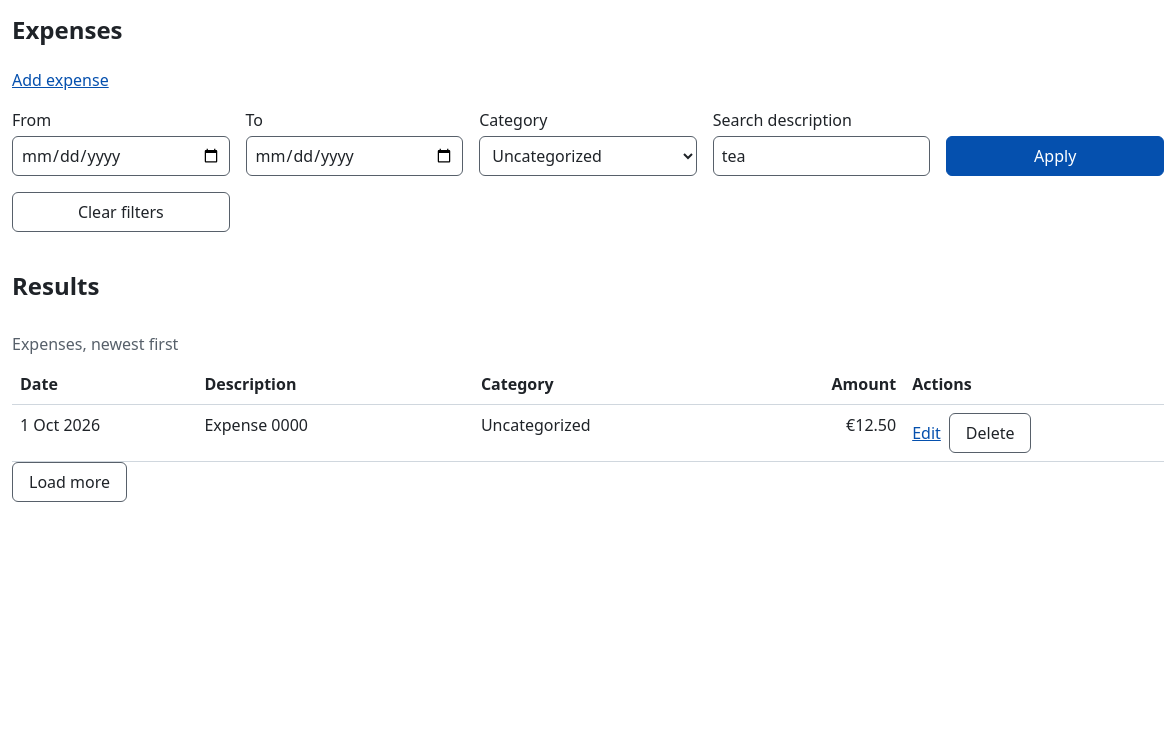
Test case: ExpensesView: Load more › appends the next page with the same filters and announces how many were added
Step 1. Click the button "Load more" → (70, 482), box [12, 462, 127, 502]
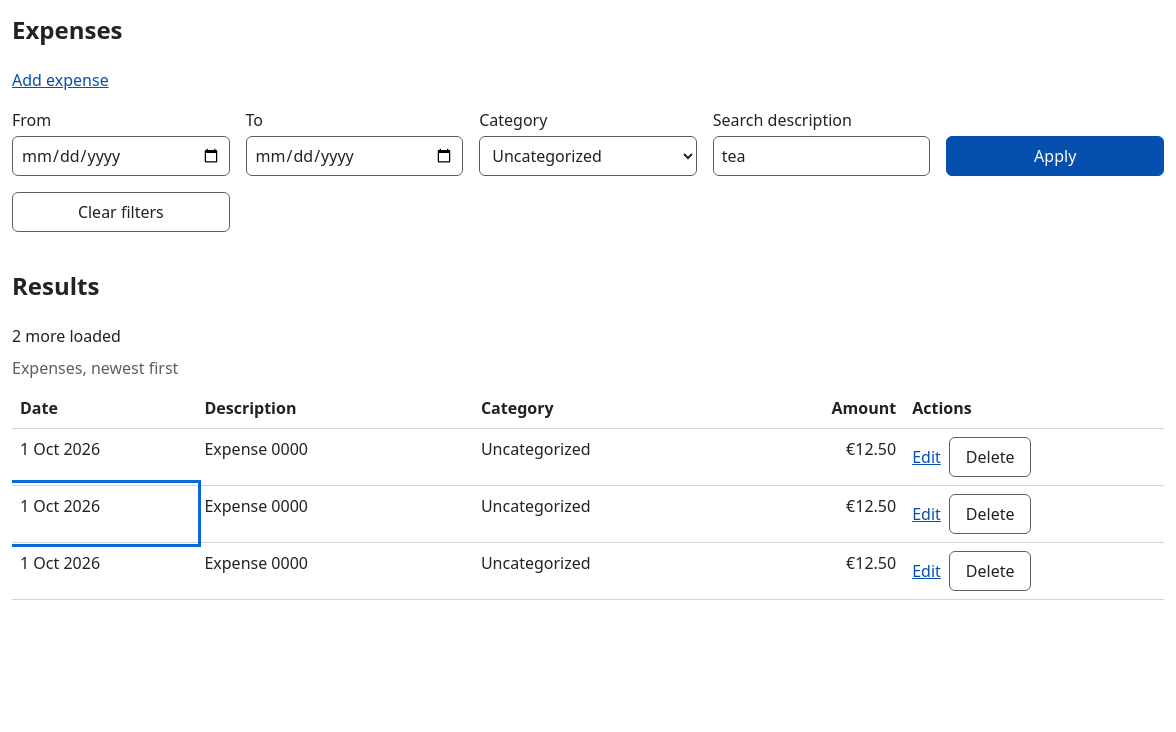
Expected: the text with class "status" reads "2 more loaded", [12, 325, 121, 347]
